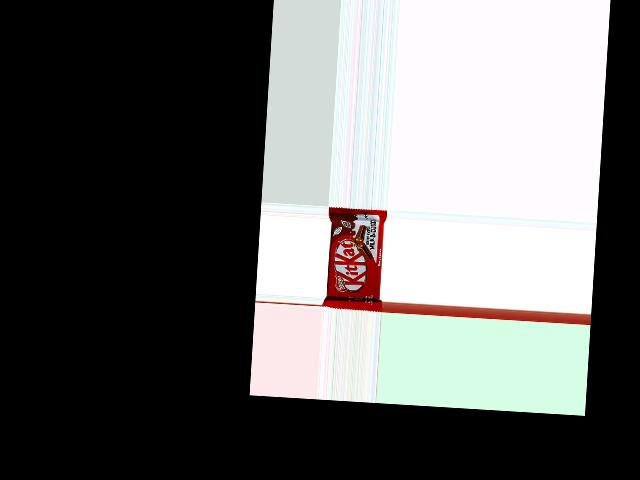chocolate: (322, 205, 388, 311)
